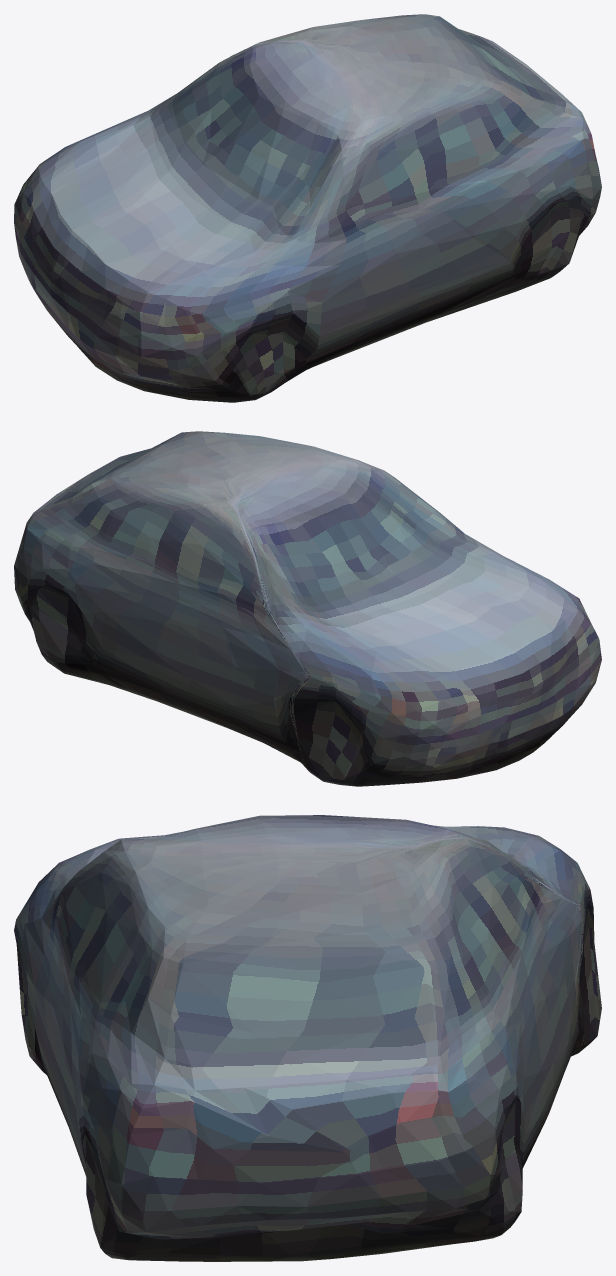
File: video3_198.obj
3 views of the same model, one above another, from view 1: azimuth 30°, elevation 25°; view 2: azimuth 150°, elevation 25°; view 3: azimuth 270°, elevation 25° (orthographic). The views are drawn at different scales.
Bounding box in the file's own units: 1 × 0.4553 × 0.6723.
Materials: 1 (1 with a texture image).
